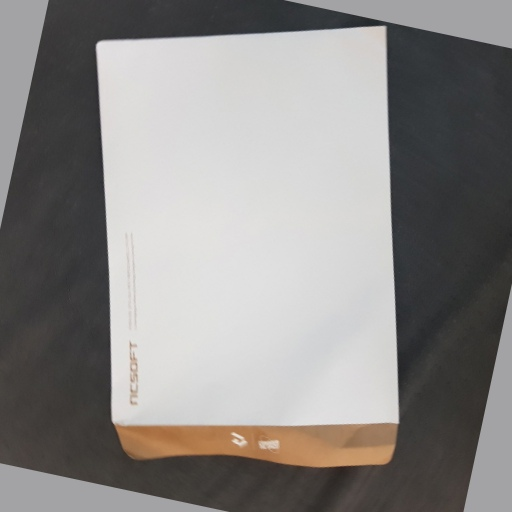Paper_2: (90, 21, 412, 490)
